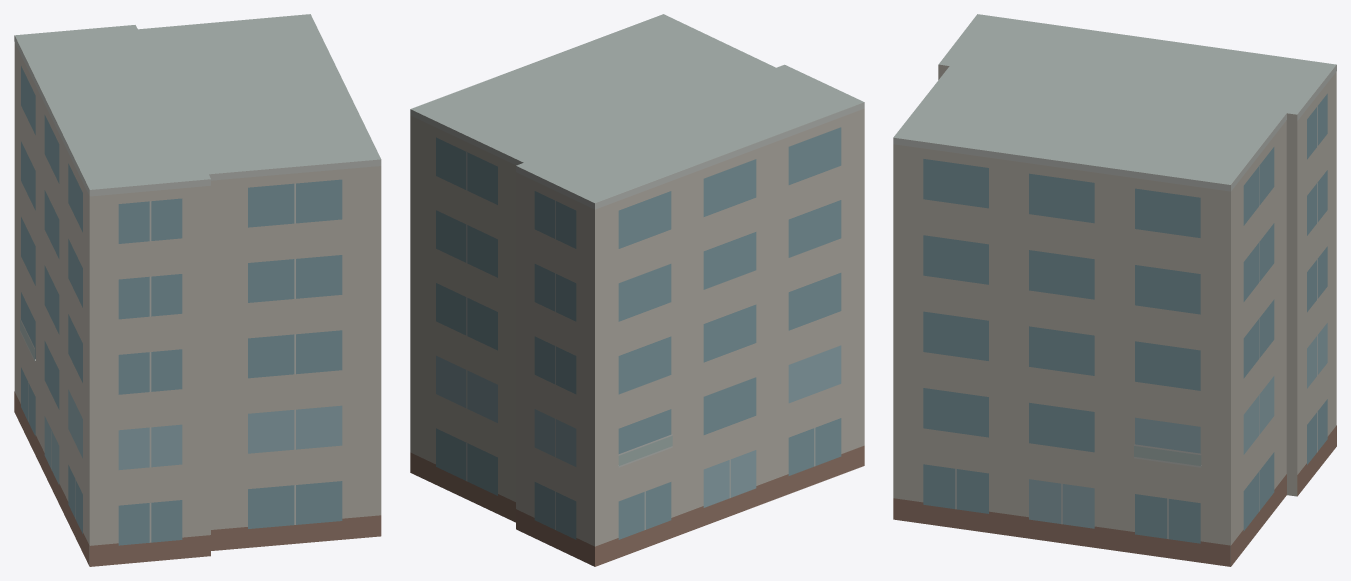
File: survey-upis-32528032.glb
3 renders of one model, left to right at view 1: azimuth 30°, elevation 25°; view 2: azimuth 150°, elevation 25°; view 3: azimuth 270°, elevation 25°, orthographic. The views are drawn at different scales.
Parts seen in each view (by area): view 1: survey-upis-32528032.tmp; view 2: survey-upis-32528032.tmp; view 3: survey-upis-32528032.tmp.
Boxes of the visible parts, x1,y1,x2,y2 form: survey-upis-32528032.tmp: (14,14,381,566); survey-upis-32528032.tmp: (410,14,864,566); survey-upis-32528032.tmp: (893,14,1336,566).
Bounding box in the file's own units: 13.55 × 14.1 × 14.86.
